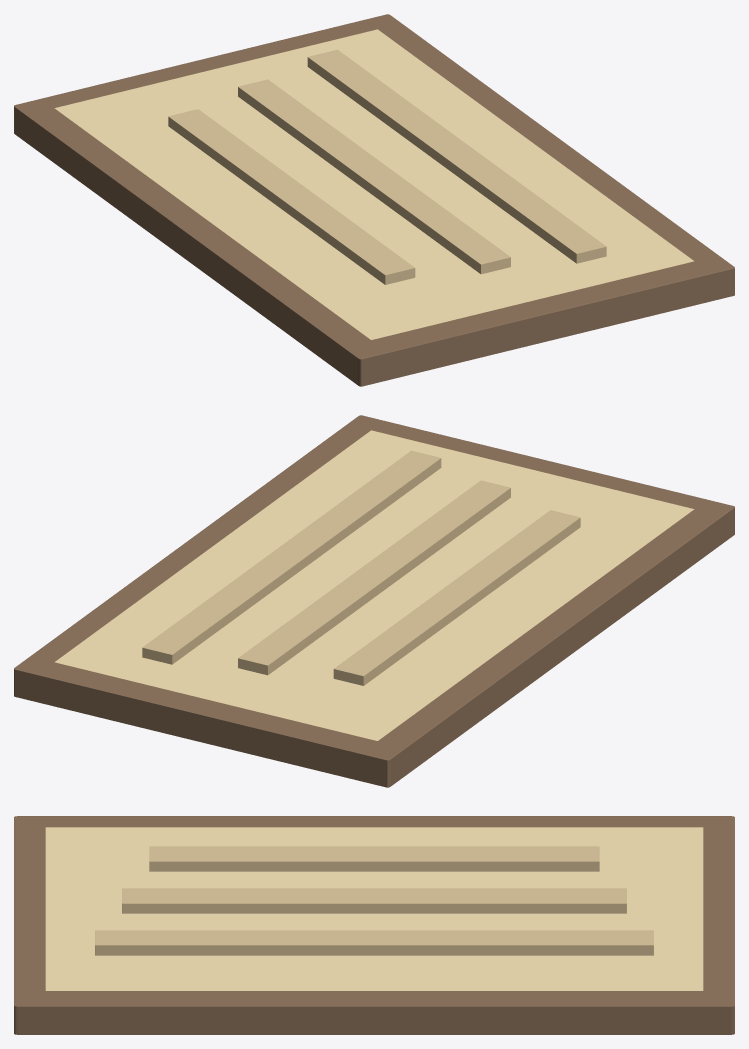
Rendered from wall_art.glb.
The picture shows the model from 3 angles, top to bottom: view 1: azimuth 30°, elevation 25°; view 2: azimuth 150°, elevation 25°; view 3: azimuth 270°, elevation 25°; orthographic projection. The views are drawn at different scales.
Visible parts, largest first — view 1: panel, frame, stripe_2, stripe_1, stripe_0; view 2: panel, frame, stripe_2, stripe_1, stripe_0; view 3: panel, frame, stripe_2, stripe_1, stripe_0.
Part boxes in pixels (box(x1,y1,x2,y2)): panel: box(54, 29, 693, 339); frame: box(14, 14, 734, 386); stripe_2: box(307, 49, 606, 263); stripe_1: box(238, 79, 510, 274); stripe_0: box(168, 109, 415, 284); panel: box(55, 430, 694, 740); frame: box(14, 415, 734, 787); stripe_2: box(142, 450, 441, 664); stripe_1: box(238, 480, 510, 675); stripe_0: box(333, 510, 580, 685); panel: box(45, 827, 703, 990); frame: box(14, 816, 734, 1034); stripe_2: box(95, 930, 653, 955); stripe_1: box(122, 888, 626, 913); stripe_0: box(149, 846, 599, 871).
Bounding box in the file's own units: 1 × 0.1075 × 1.6.
